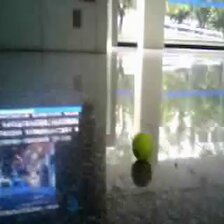tennis: (131, 133, 152, 158)
